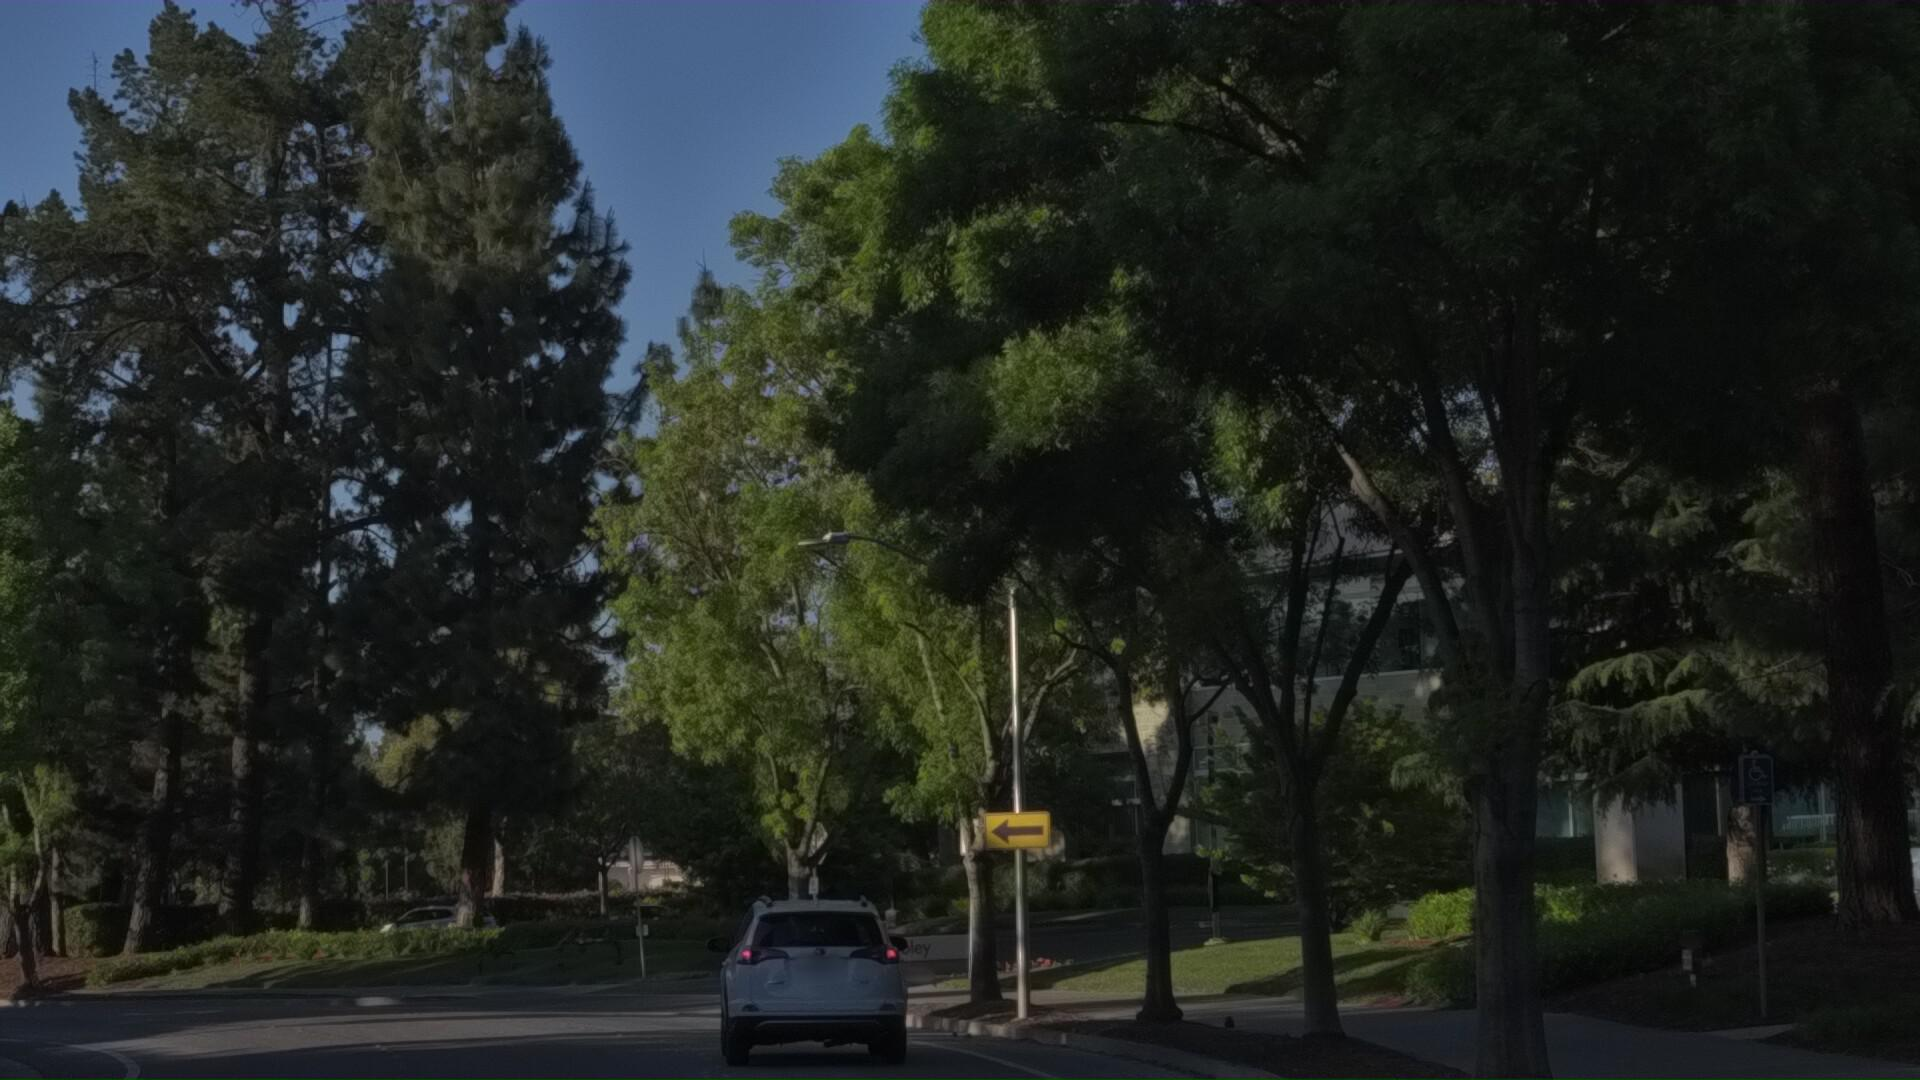car: (698, 965, 926, 1080)
